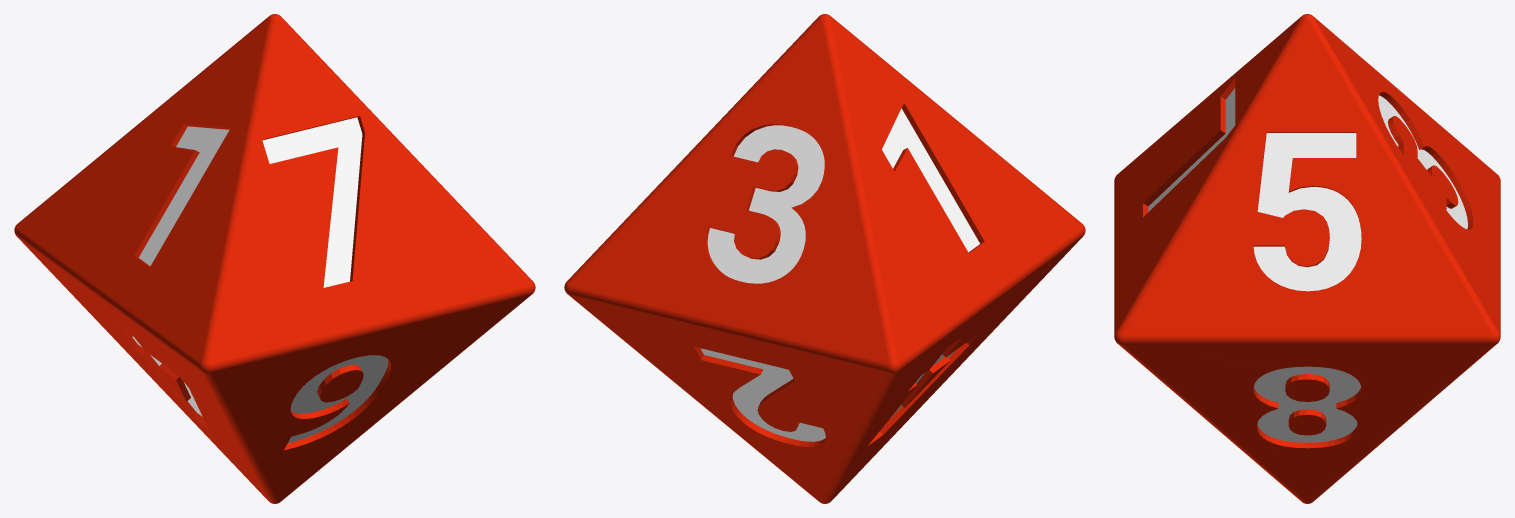
File: DiceMakerD8_blank.glb
3 renders of one model, left to right at view 1: azimuth 30°, elevation 25°; view 2: azimuth 150°, elevation 25°; view 3: azimuth 270°, elevation 25°, orthographic.
Parts seen in each view (by area): view 1: d8_3d_numbered_stl, d8_3d_blank_stl; view 2: d8_3d_numbered_stl, d8_3d_blank_stl; view 3: d8_3d_numbered_stl, d8_3d_blank_stl.
Boxes of the visible parts, x1=… form: d8_3d_numbered_stl: x1=14, y1=14, x2=535, y2=503; d8_3d_blank_stl: x1=132, y1=117, x2=388, y2=443; d8_3d_numbered_stl: x1=564, y1=14, x2=1085, y2=503; d8_3d_blank_stl: x1=700, y1=108, x2=979, y2=441; d8_3d_numbered_stl: x1=1114, y1=14, x2=1500, y2=503; d8_3d_blank_stl: x1=1148, y1=88, x2=1467, y2=442.
Size of the model in its own units: 4.7 by 6.56 by 4.7.
